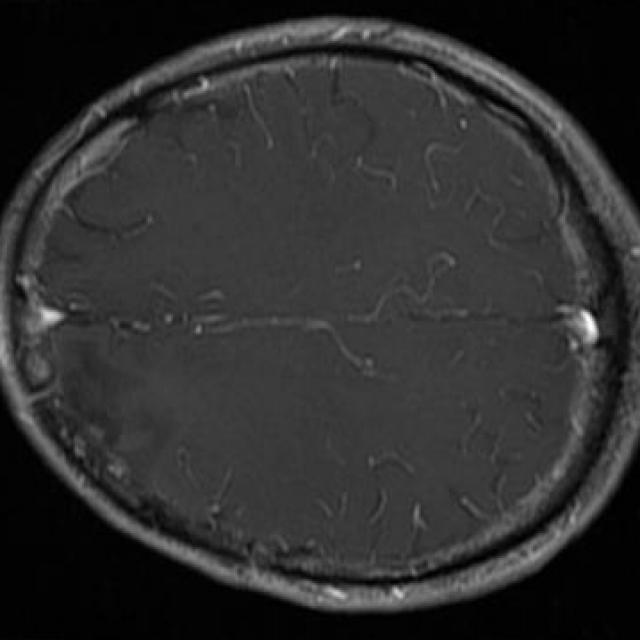glioma: (61, 339, 166, 485)
